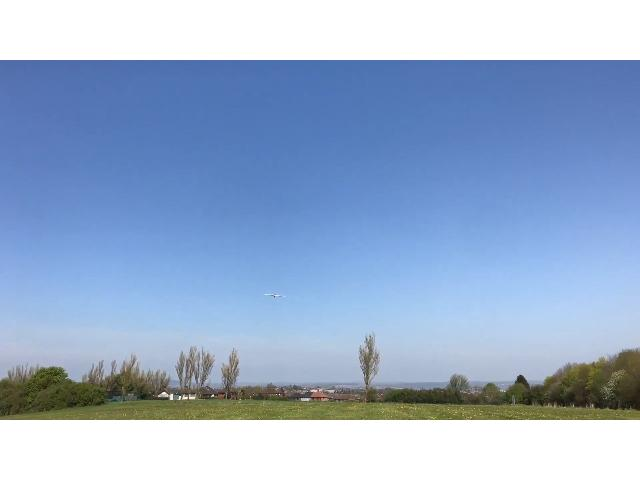Anti-Drone: (260, 291, 294, 303)
